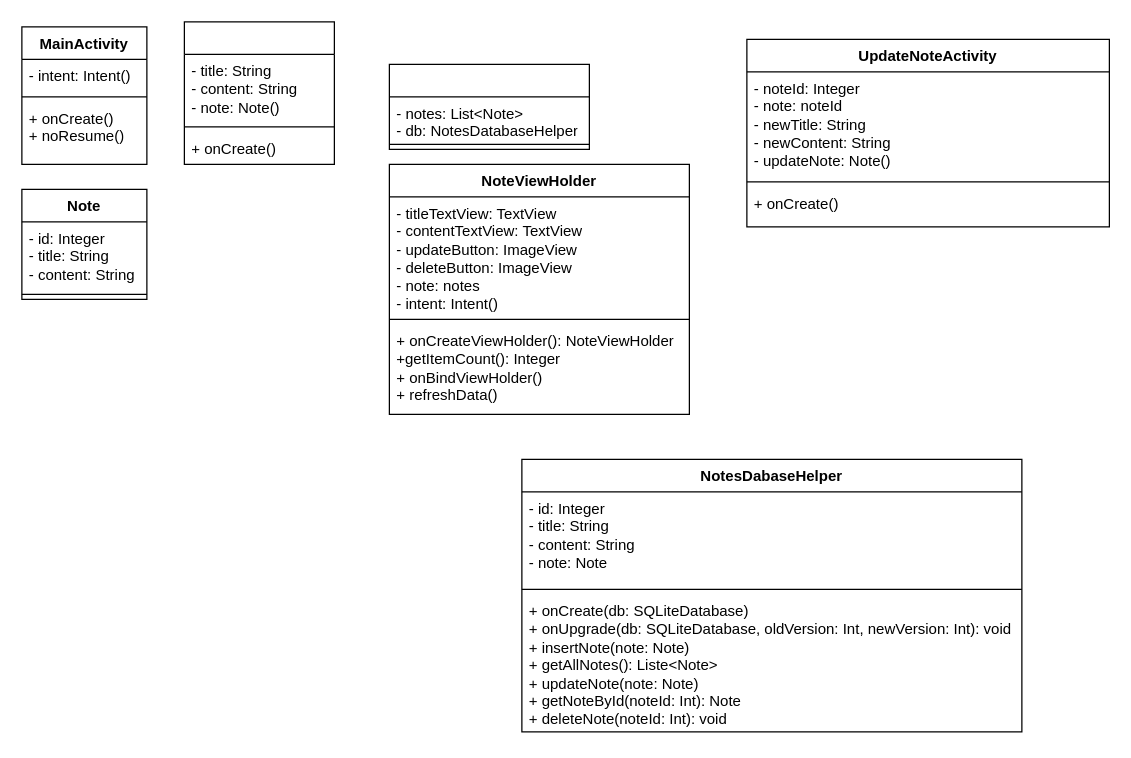
This 1131x758 diagram has some shape labels left out. Each missing label, with the box of its shape:
AddNoteActivity: (183, 21, 334, 164)
NotesAdapter: (388, 63, 589, 149)
